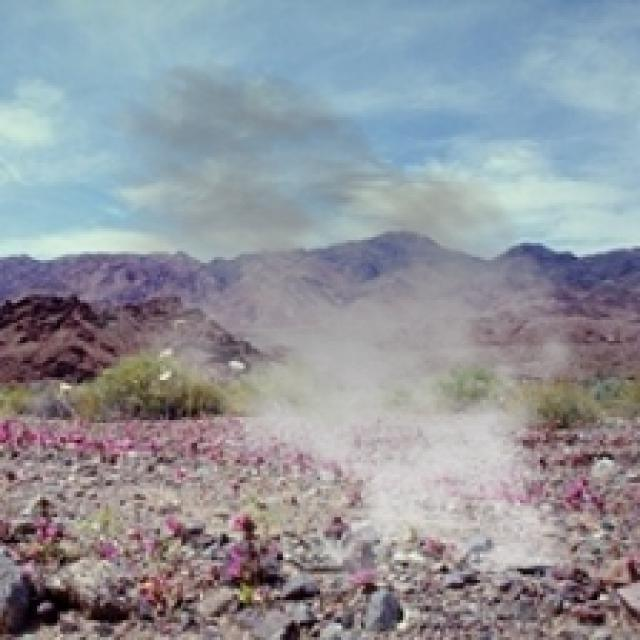Smoke: (46, 57, 608, 589)
